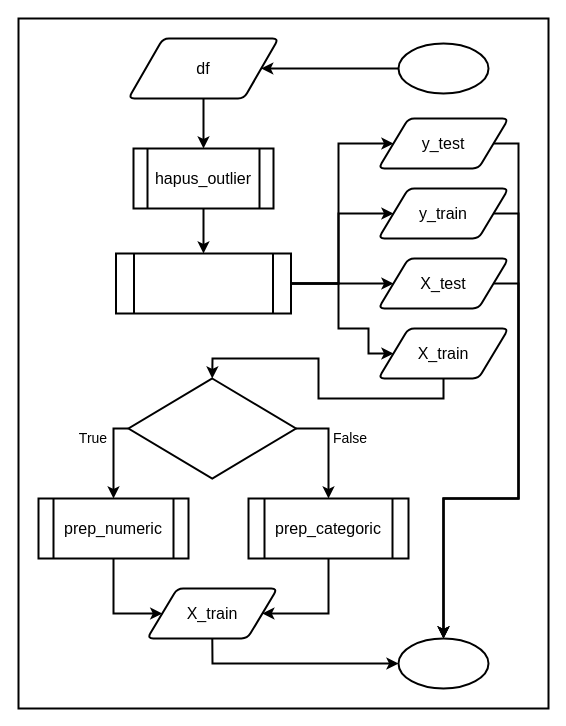
This 566x726 diagram has some shape labels left out. Each missing label, with the centre of its shape:
dataset_splitting: point 203,283
if X_train = numeric: point 211,428
mulai: point 443,68
selesai: point 443,663
